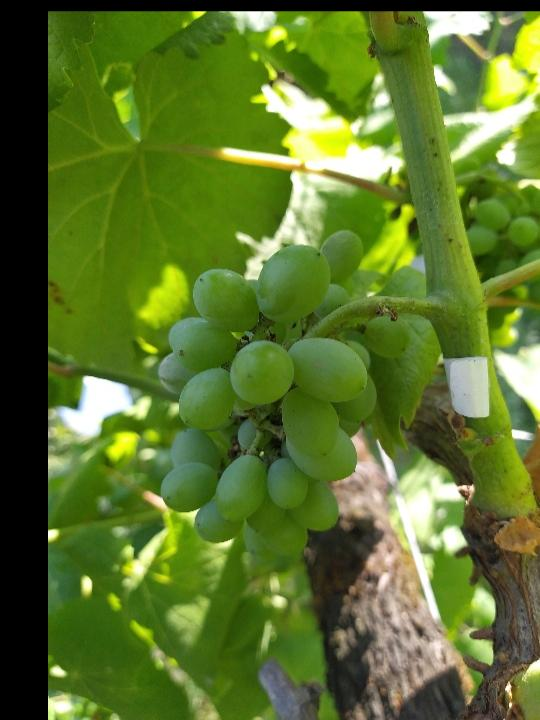grape: (157, 225, 410, 564)
